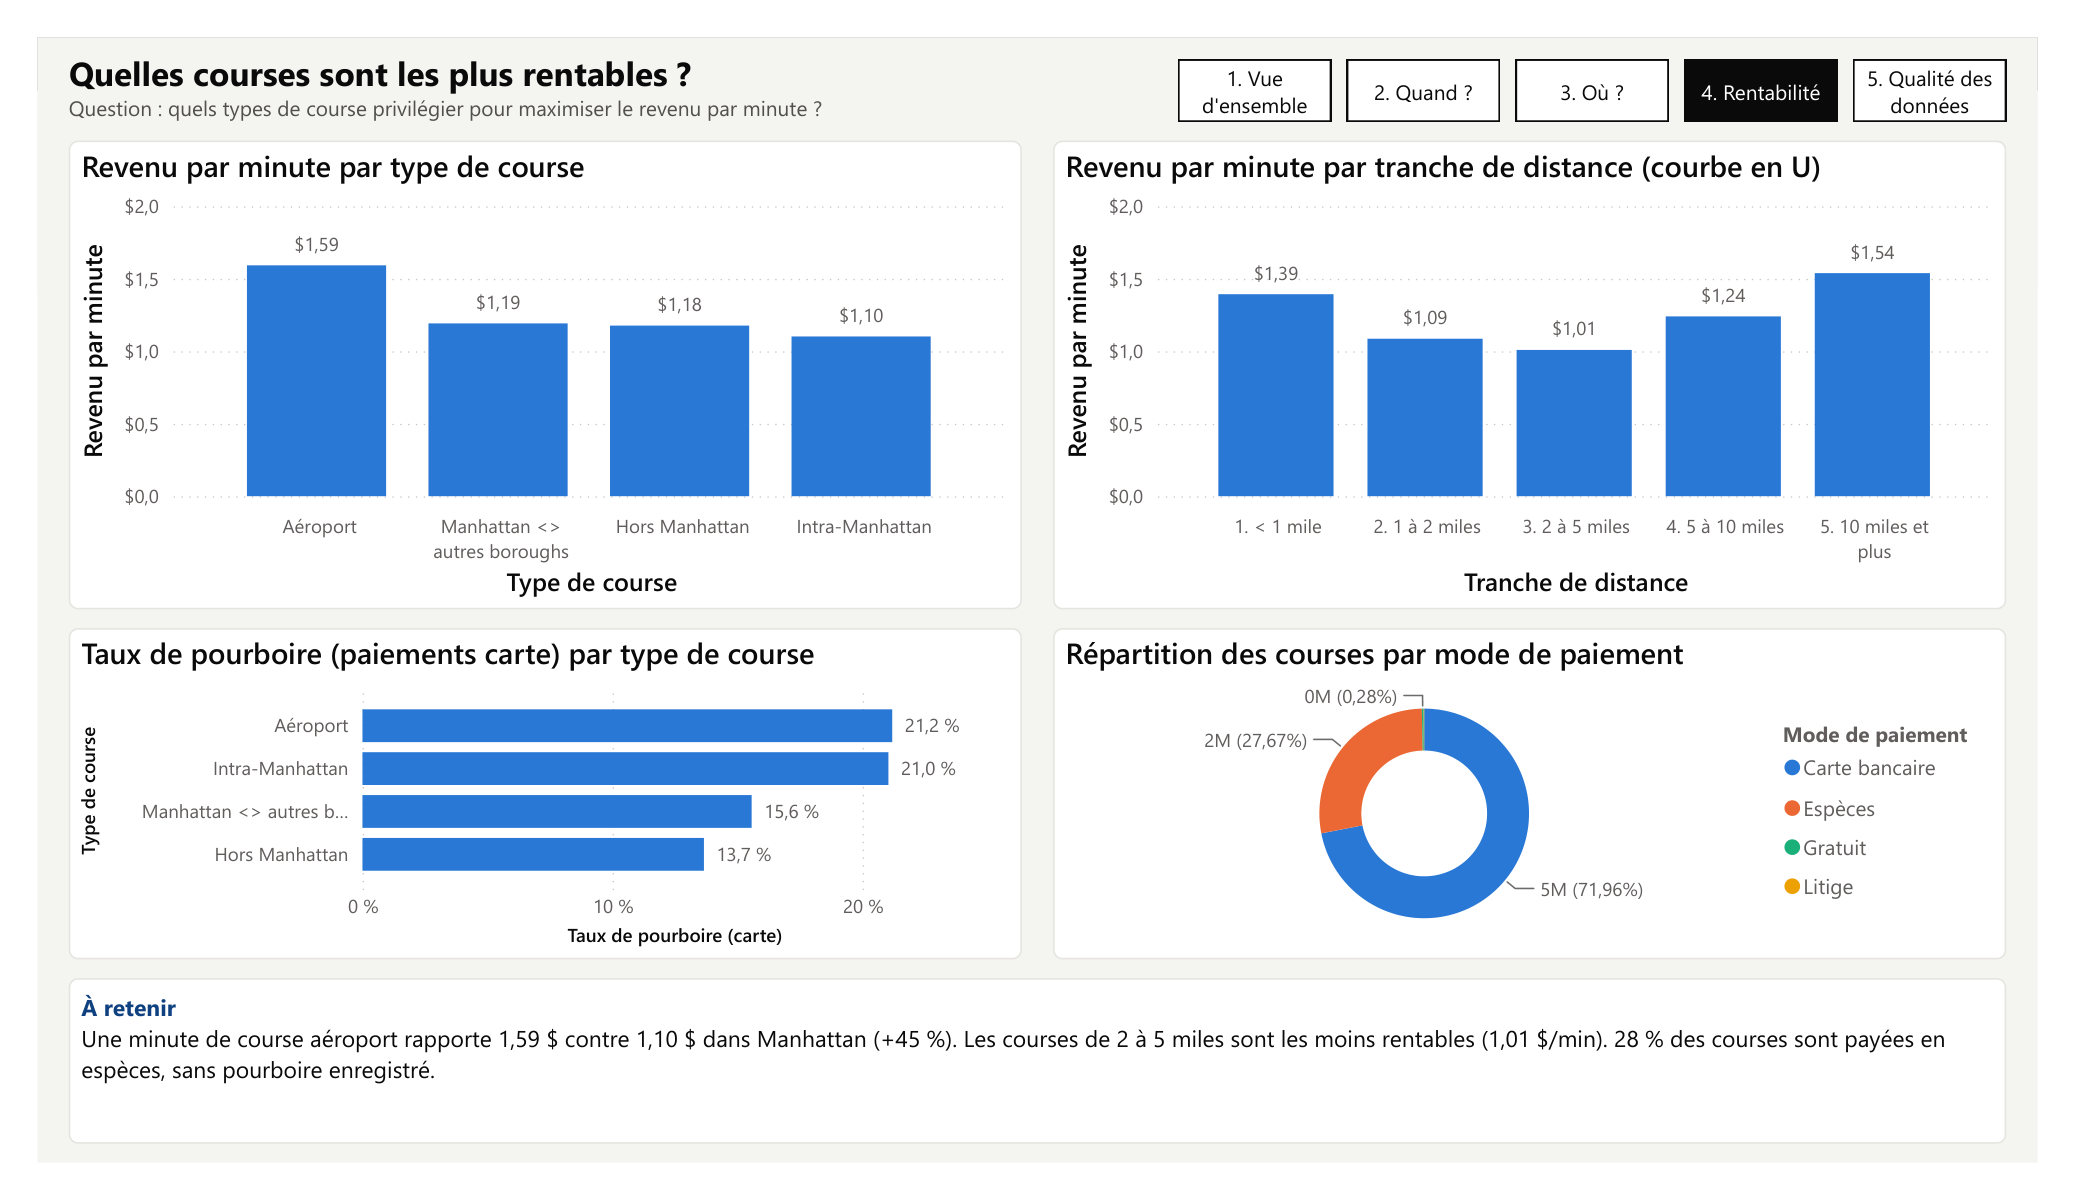

Layout of this report page (visuals, bound fields, positions):
{"tool":"powerbi","page":{"name":"4. Rentabilité","canvas":[1280,720],"ordinal":3},"visuals":[{"type":"textbox","box":[20,8,700,52],"z":0},{"type":"pageNavigator","box":[730,14,530,40],"z":1000},{"type":"clusteredColumnChart","title":"Revenu par minute par type de course","fields":{"Category":["fact_trips_agg.Type de course"],"Y":["_Mesures.Revenu par minute"]},"box":[20,66,610,300],"z":2000},{"type":"clusteredColumnChart","title":"Revenu par minute par tranche de distance (courbe en U)","fields":{"Category":["fact_trips_agg.Tranche de distance"],"Y":["_Mesures.Revenu par minute"]},"box":[650,66,610,300],"z":3000},{"type":"clusteredBarChart","title":"Taux de pourboire (paiements carte) par type de course","fields":{"Category":["fact_trips_agg.Type de course"],"Y":["_Mesures.Taux de pourboire (carte)"]},"box":[20,378,610,212],"z":4000},{"type":"donutChart","title":"Répartition des courses par mode de paiement","fields":{"Category":["dim_payment.Mode de paiement"],"Y":["_Mesures.Courses"]},"box":[650,378,610,212],"z":5000},{"type":"textbox","box":[20,602,1240,106],"z":6000}]}

Visuals, with their boxes on the page's 1280x720 design canvas (x1, y1, x2, y2). These are canvas units, not pixel positions in the 2075x1200 screenshot, which may show the page scaled, cropped or inside an application window:
textbox: <region>20, 8, 720, 60</region>
pageNavigator: <region>730, 14, 1260, 54</region>
"Revenu par minute par type de course" clusteredColumnChart: <region>20, 66, 630, 366</region>
"Revenu par minute par tranche de distance (courbe en U)" clusteredColumnChart: <region>650, 66, 1260, 366</region>
"Taux de pourboire (paiements carte) par type de course" clusteredBarChart: <region>20, 378, 630, 590</region>
"Répartition des courses par mode de paiement" donutChart: <region>650, 378, 1260, 590</region>
textbox: <region>20, 602, 1260, 708</region>
